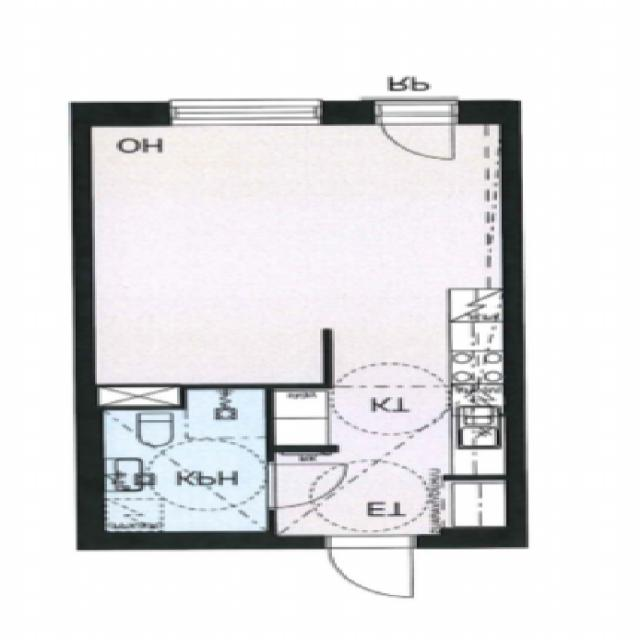door: (333, 536, 413, 597), (382, 101, 454, 167), (266, 463, 348, 507)
